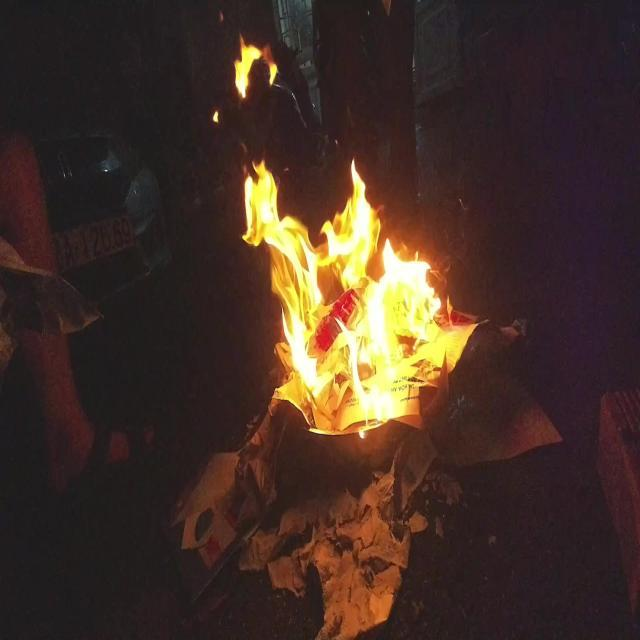Fire: (211, 31, 484, 442)
